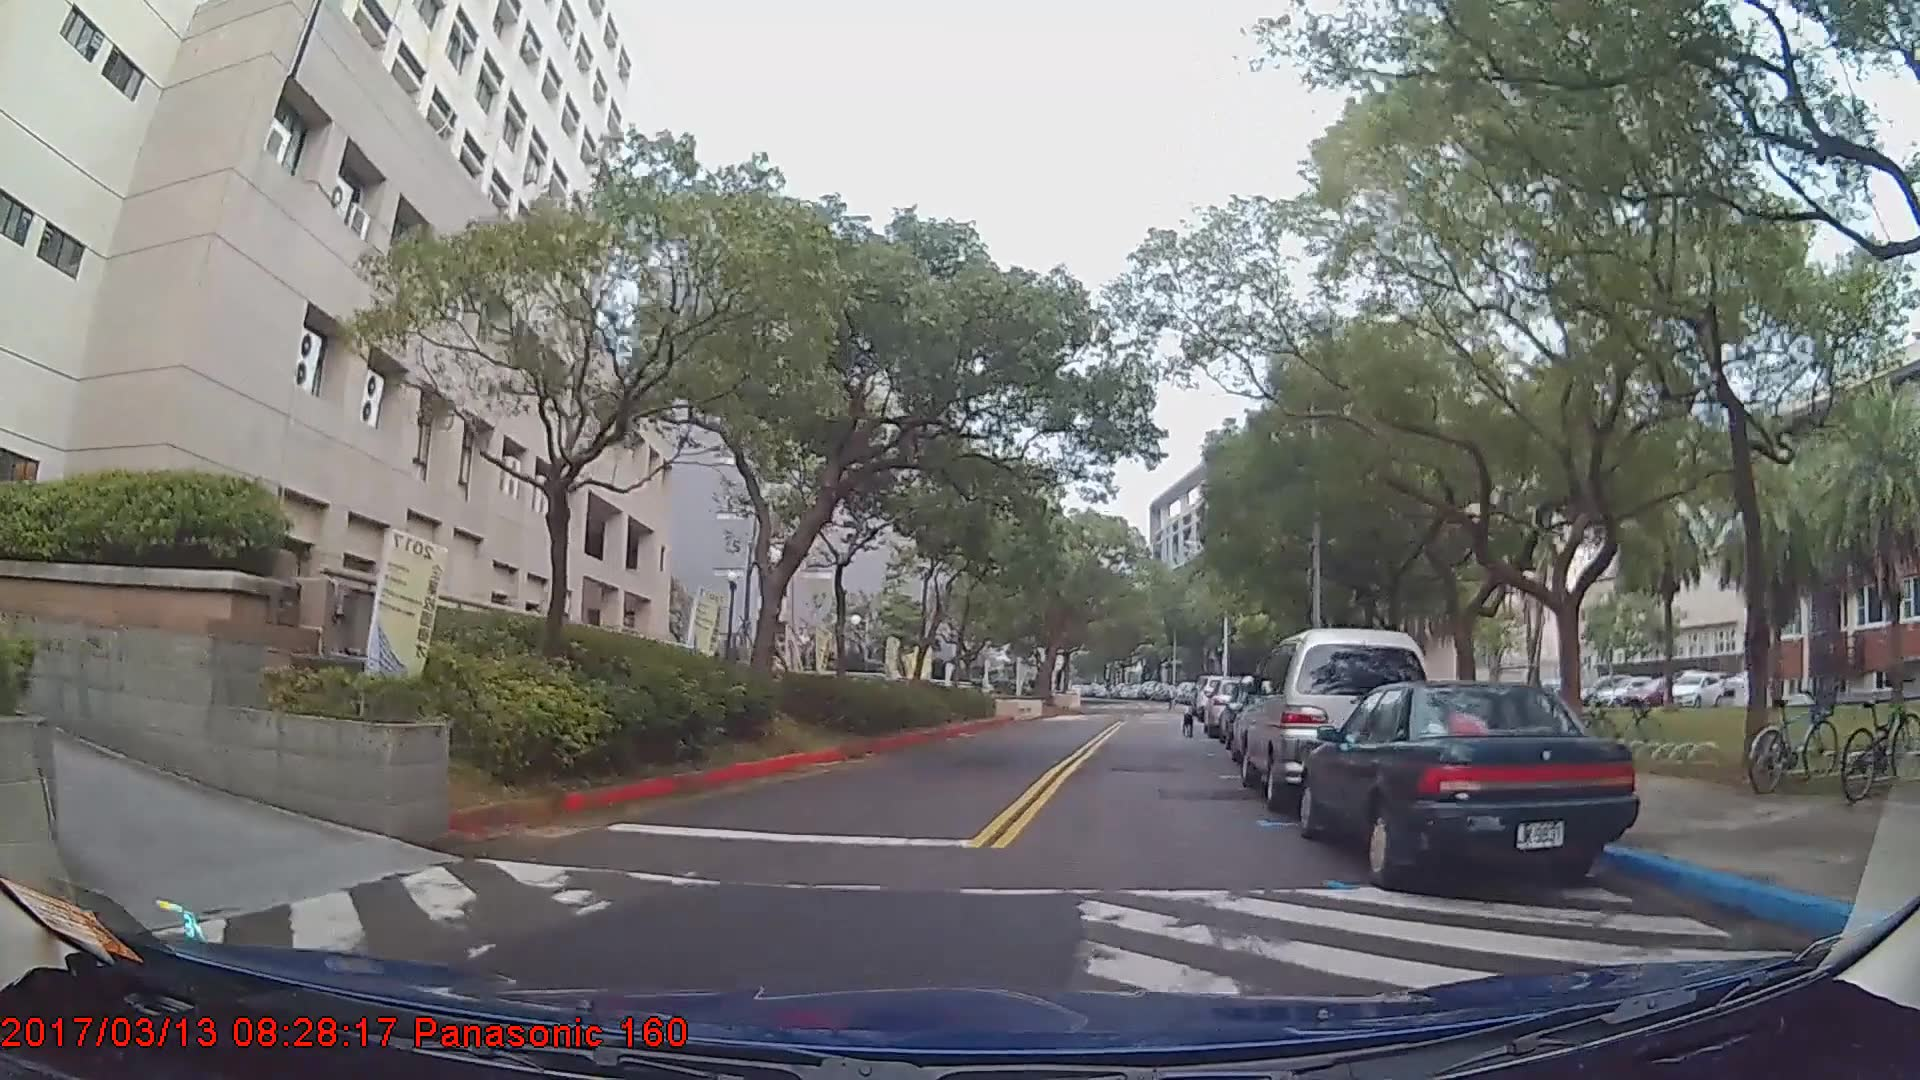vehicle: (1298, 682, 1640, 889), (1240, 628, 1432, 814)
